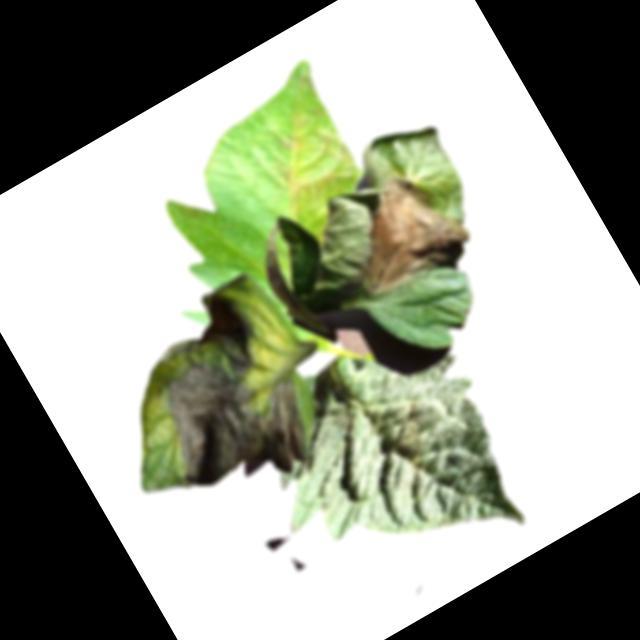Late_blight: (107, 278, 334, 521), (317, 154, 483, 317), (242, 96, 375, 237)
healthy: (228, 303, 547, 626)
